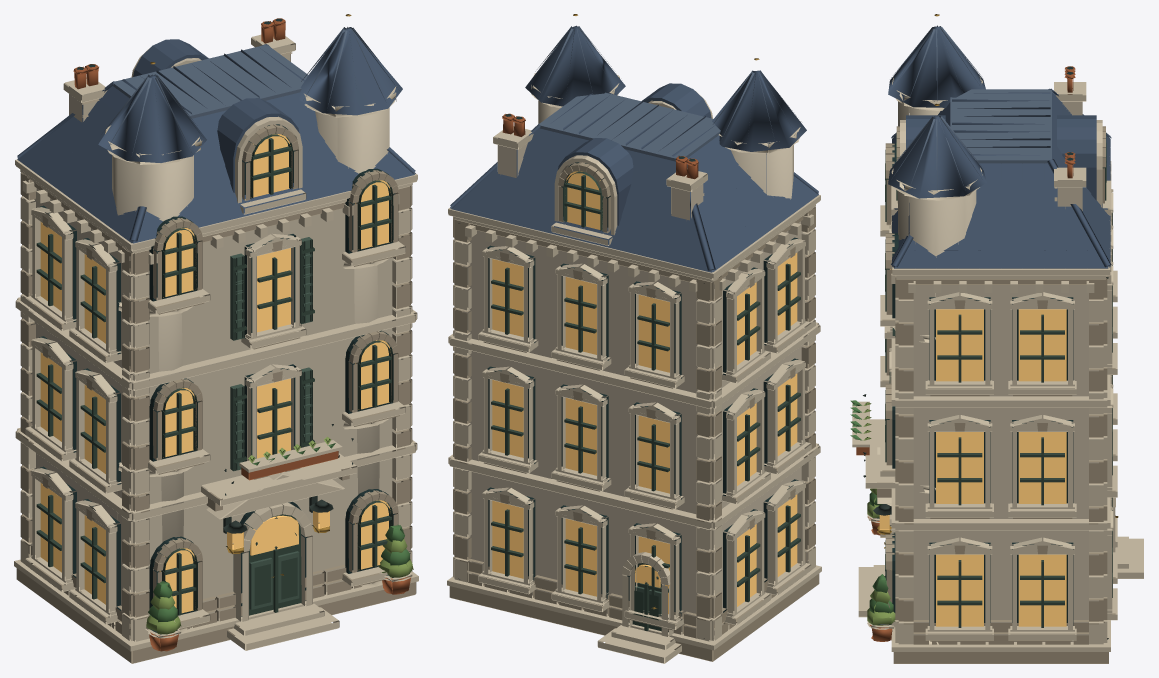
3 views of the same model, side by side, from view 1: azimuth 30°, elevation 25°; view 2: azimuth 150°, elevation 25°; view 3: azimuth 270°, elevation 25° (orthographic). The views are drawn at different scales.
Visible parts, largest first — view 1: classic_villa_3_geometry, classic_villa_3_geometry ceramic; view 2: classic_villa_3_geometry, classic_villa_3_geometry ceramic; view 3: classic_villa_3_geometry, classic_villa_3_geometry ceramic.
Part boxes in pixels (x1,y1,x2,y2): classic_villa_3_geometry: (14,14,418,663); classic_villa_3_geometry ceramic: (17,27,415,243); classic_villa_3_geometry: (447,14,821,663); classic_villa_3_geometry ceramic: (450,25,818,272); classic_villa_3_geometry: (850,14,1143,663); classic_villa_3_geometry ceramic: (888,25,1111,268).
Bounding box in the file's own units: 0.9707 × 1.76 × 0.8722.
